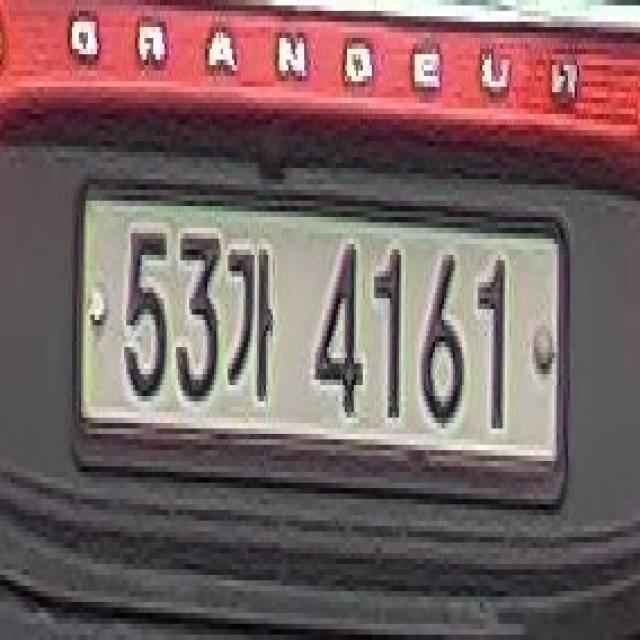1: (370, 233, 414, 434), (466, 238, 512, 428)
3: (176, 222, 230, 418)
4: (311, 239, 367, 423)
5: (124, 217, 169, 401)
6: (419, 239, 469, 434)
ga: (225, 234, 278, 402)
license_plate: (75, 179, 572, 499)
